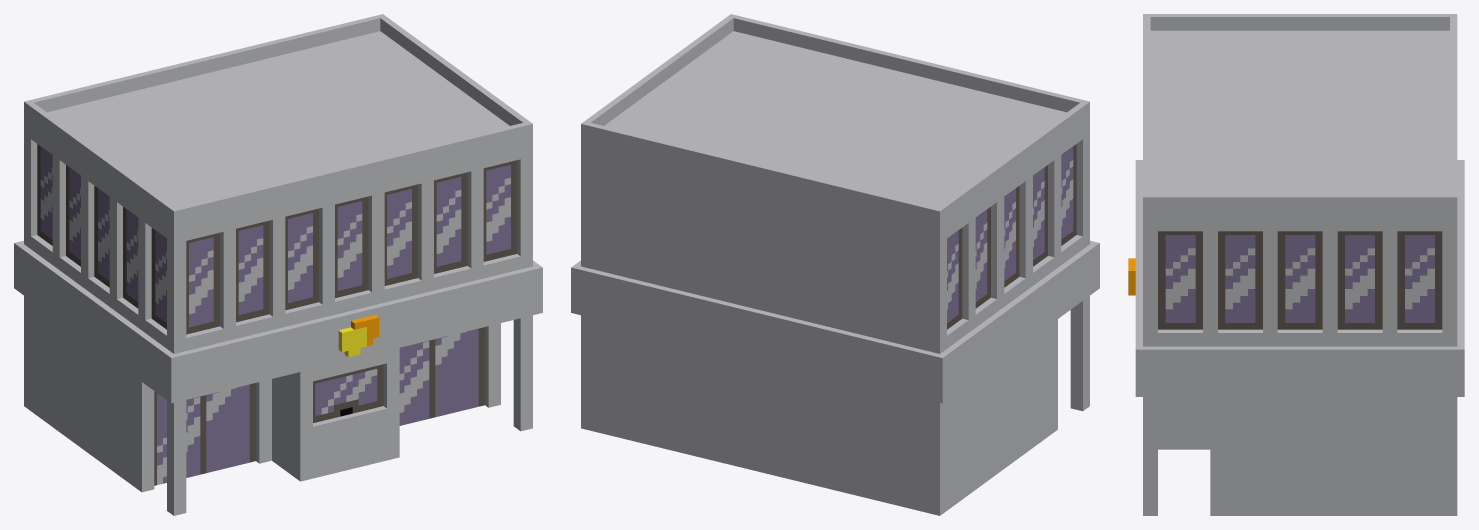
File: theater_a.obj
The picture shows the model from 3 angles, left to right: view 1: azimuth 30°, elevation 25°; view 2: azimuth 150°, elevation 25°; view 3: azimuth 270°, elevation 25°; orthographic projection. The views are drawn at different scales.
Size of the model in its own units: 6 by 4.7 by 4.5.
Materials: 1 (1 with a texture image).
